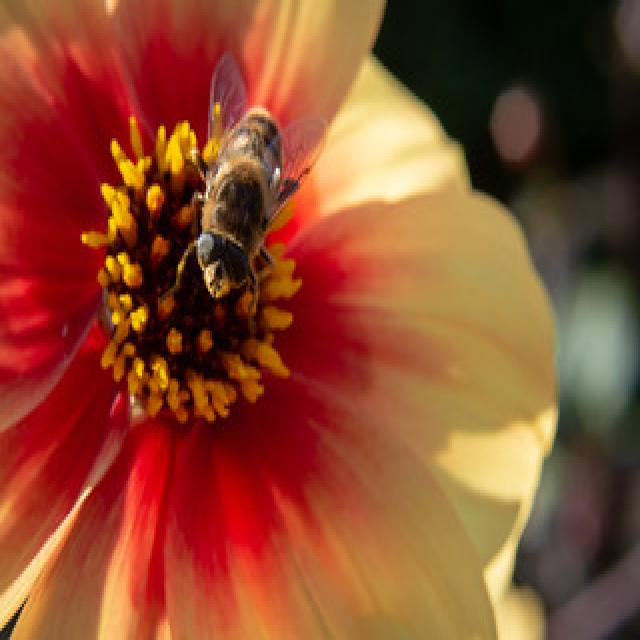Abeille: (164, 42, 330, 319)
